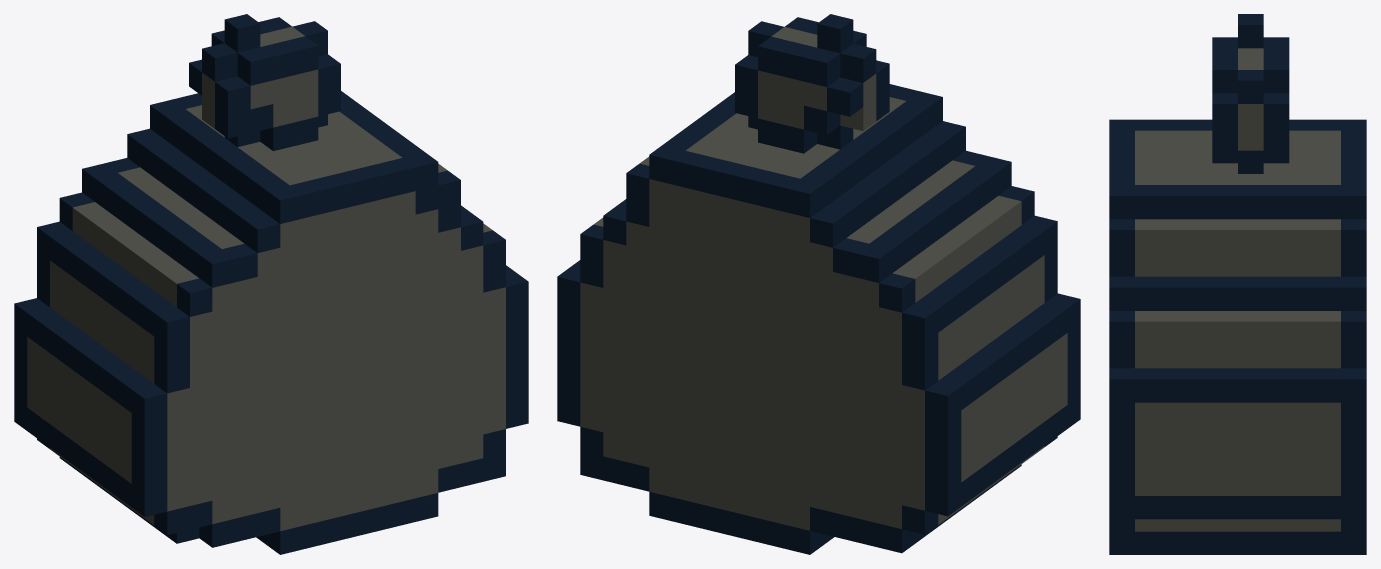
Rendered from trash 2.gltf.
The picture shows the model from 3 angles, left to right: view 1: azimuth 30°, elevation 25°; view 2: azimuth 150°, elevation 25°; view 3: azimuth 270°, elevation 25°; orthographic projection. The views are drawn at different scales.
Visible parts, largest first — view 1: Object_0; view 2: Object_0; view 3: Object_0.
Part boxes in pixels (bbox=[...]): Object_0: bbox=[14, 14, 528, 554]; Object_0: bbox=[557, 14, 1080, 554]; Object_0: bbox=[1109, 14, 1366, 554].
Size of the model in its own units: 1.7 by 2 by 1.
Materials: 1 (1 with a texture image).
